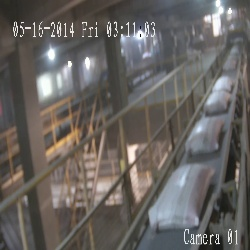cementbag: (147, 162, 214, 226), (185, 116, 223, 153), (203, 91, 230, 112), (212, 75, 234, 91)
